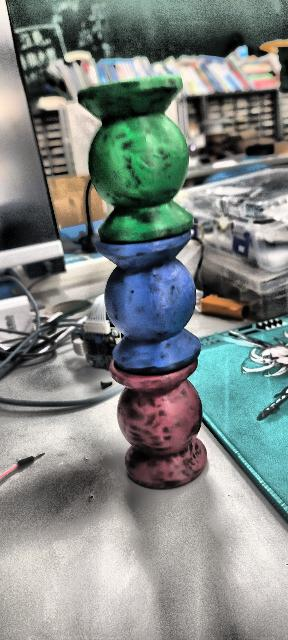blue: (94, 230, 201, 374)
green: (79, 75, 195, 245)
red: (108, 358, 208, 497)
